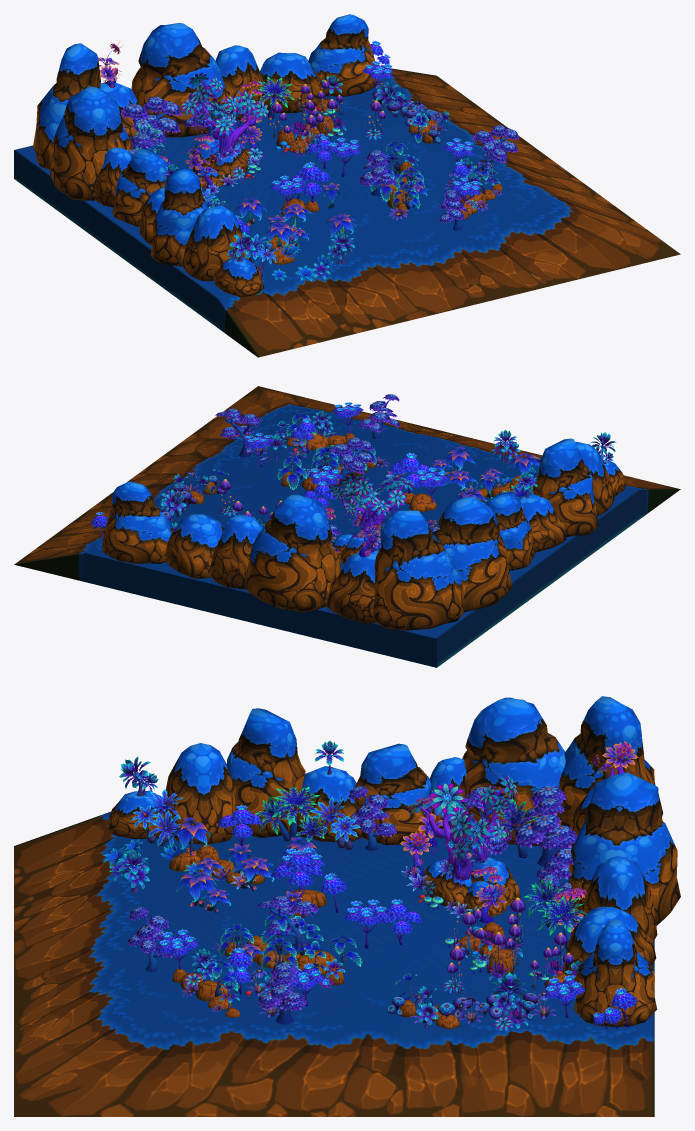
Rendered from MysticLand_SampleScene.FBX.
The picture shows the model from 3 angles, top to bottom: view 1: azimuth 30°, elevation 25°; view 2: azimuth 150°, elevation 25°; view 3: azimuth 270°, elevation 25°; orthographic projection. The views are drawn at different scales.
Parts seen in each view (by area): view 1: Land_01a005, Land_Rock_01a006, Blue_Tree_10c001, Blue_Tree_09c001, Blue_Tree_09b001, Blue_Tree_10c003, Blue_Tree_09a001, Blue_Tree_10c002, Blue_Tree_10a003, Blue_Tree_07b001, Blue_Tree_05b002, Blue_Rock_005 (+3 smaller); view 2: Land_Rock_01a006, Land_01a005, Blue_Tree_09c001, Blue_Tree_10c002, Blue_Tree_10c003, Blue_Tree_09a001, Blue_Tree_10a003, Blue_Tree_09b001, Blue_Tree_05b002, Blue_Tree_08c006, Blue_Tree_05c004, Blue_Tree_03b002 (+3 smaller); view 3: Land_01a005, Land_Rock_01a006, Blue_Tree_10c001, Blue_Tree_09a001, Blue_Tree_09c001, Blue_Tree_10c003, Blue_Tree_10a002, Blue_Tree_09b001, Blue_Tree_10a003, Blue_Tree_10a001, Blue_Tree_10c002, Blue_Tree_07b002 (+25 smaller).
Boxes of the visible parts, x1,y1,x2,y2 form: Land_01a005: (14,68,680,357); Land_Rock_01a006: (33,14,378,297); Blue_Tree_10c001: (121,96,181,148); Blue_Tree_09c001: (180,72,240,139); Blue_Tree_09b001: (206,90,268,152); Blue_Tree_10c003: (472,125,518,173); Blue_Tree_09a001: (195,101,234,163); Blue_Tree_10c002: (359,150,395,196); Blue_Tree_10a003: (438,189,468,230); Blue_Tree_07b001: (253,76,294,119); Blue_Tree_05b002: (290,162,330,202); Blue_Rock_005: (208,149,247,181); Land_Rock_01a006: (102,438,626,630); Land_01a005: (14,386,680,667); Blue_Tree_09c001: (341,476,390,529); Blue_Tree_10c002: (331,437,374,486); Blue_Tree_10c003: (215,408,260,457); Blue_Tree_09a001: (371,474,414,527); Blue_Tree_10a003: (358,394,400,439); Blue_Tree_09b001: (328,475,383,531); Blue_Tree_05b002: (390,453,429,493); Blue_Tree_08c006: (491,430,520,463); Blue_Tree_05c004: (417,467,448,502); Blue_Tree_03b002: (277,457,307,490); Land_01a005: (14,811,654,1116); Land_Rock_01a006: (107,696,680,1027); Blue_Tree_10c001: (514,786,577,866); Blue_Tree_09a001: (407,783,470,867); Blue_Tree_09c001: (467,774,517,863); Blue_Tree_10c003: (257,963,306,1024); Blue_Tree_10a002: (348,786,396,850); Blue_Tree_09b001: (447,811,487,887); Blue_Tree_10a003: (127,907,175,971); Blue_Tree_10a001: (535,834,573,911); Blue_Tree_10c002: (256,896,318,950); Blue_Tree_07b002: (269,786,320,840).
Size of the model in its own units: 5233 by 1534 by 5300.
